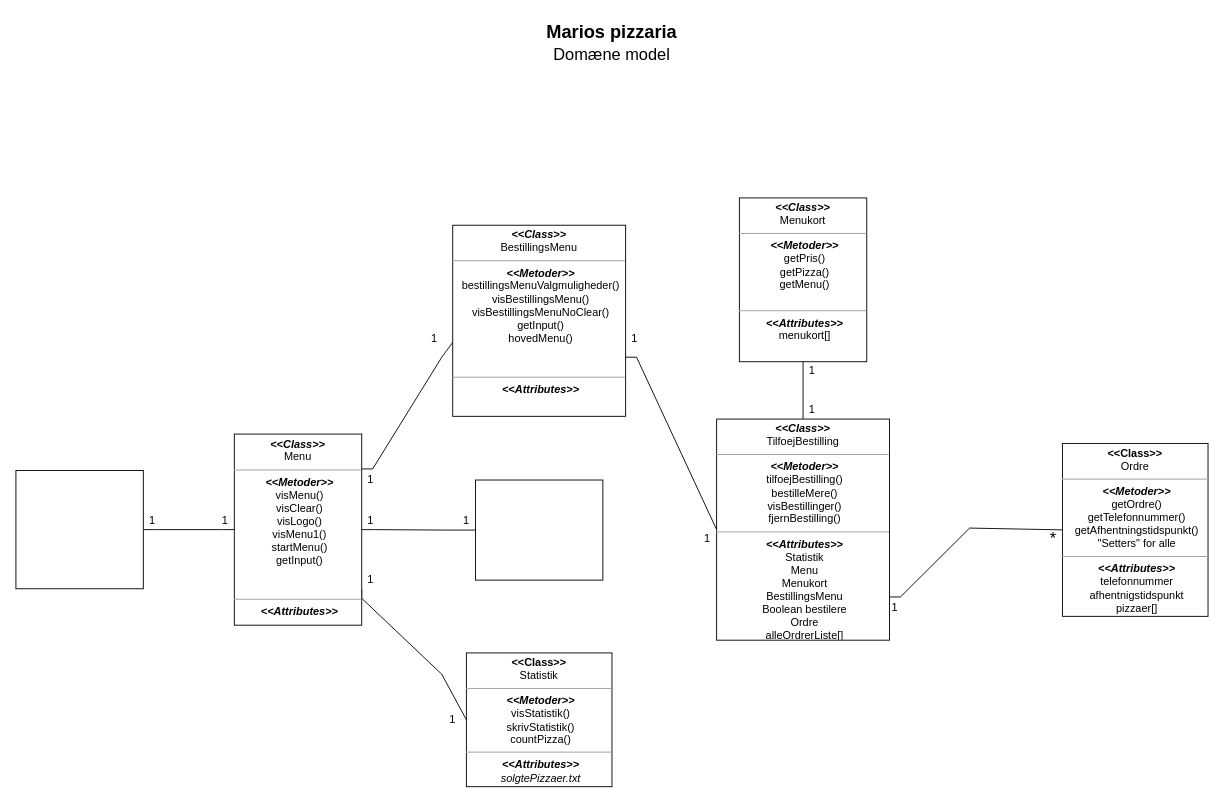
This 1224x803 diagram has some shape labels left out. The centre of each missing label's shape, as x and y in pixels:
<<Class>> Main <<Metoder>> <<Attributes>>: (79,529)
<<Class>> ShowMenuKort <<Metoder>> showMenuKort() <<Attributes>>: (539,529)
